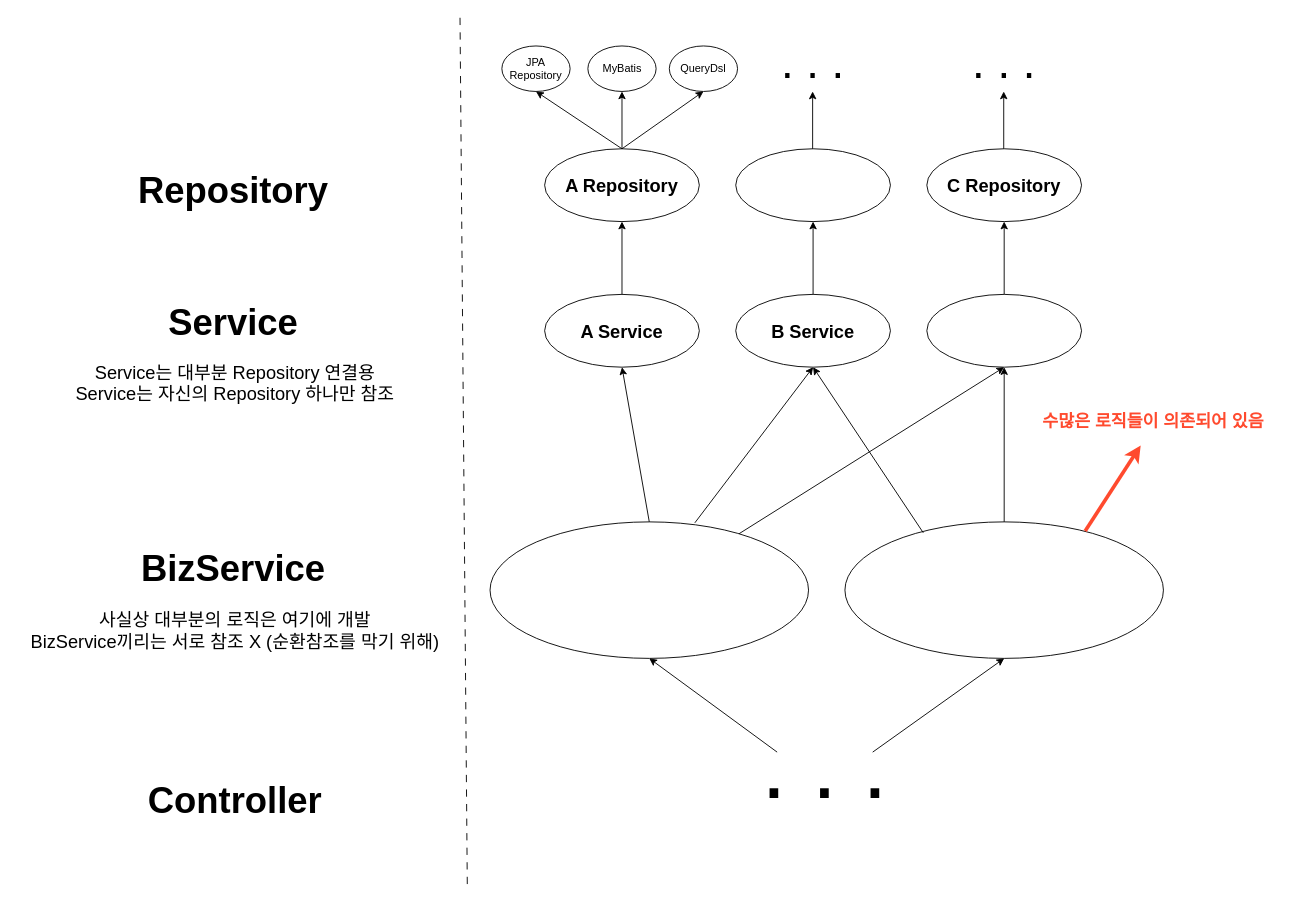
Image size: 1292x901. Some labels were removed from this diagram. The box of each missing label's shape, as (x1, y1, x2, y2) in pixels:
ABC BizService: (489, 521, 809, 658)
B Repository: (735, 148, 890, 222)
BC BizService: (844, 521, 1163, 658)
C Service: (926, 293, 1082, 367)
